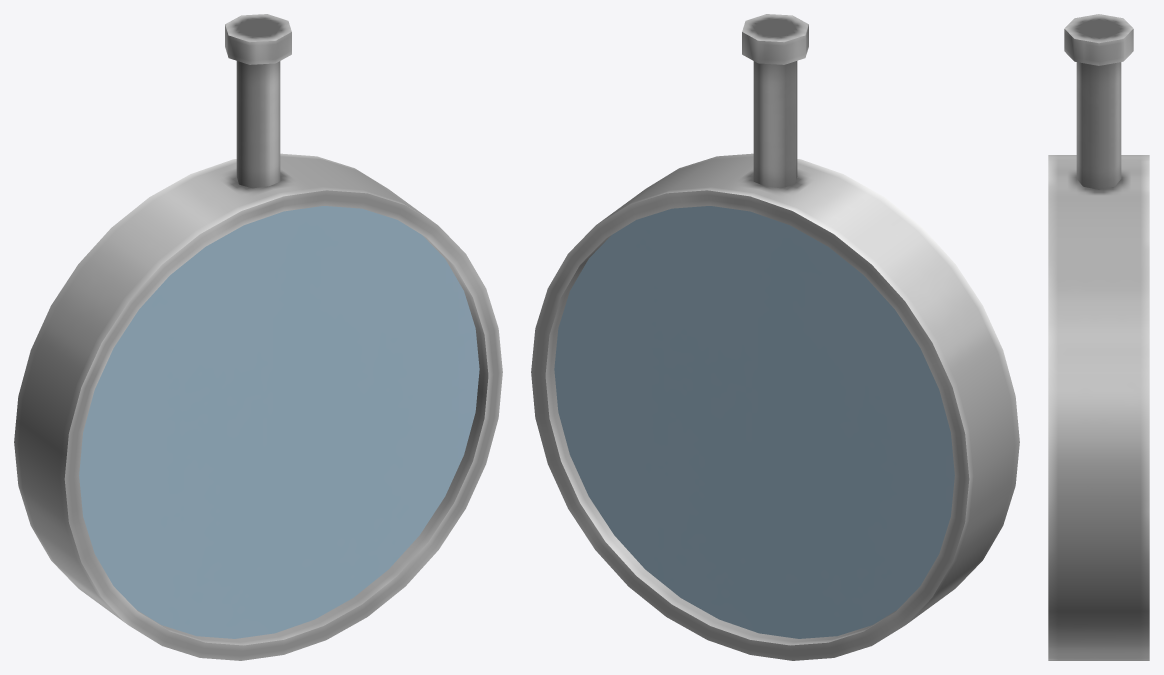
Rendered from set_clock_01_01.fbx.
3 renders of one model, left to right at view 1: azimuth 30°, elevation 25°; view 2: azimuth 150°, elevation 25°; view 3: azimuth 270°, elevation 25°, orthographic.
Parts seen in each view (by area): view 1: glass01, clock_01; view 2: glass02, clock_01; view 3: clock_01.
Boxes of the visible parts, left/top/right/bottom form: glass01: left=79, top=206, right=479, bottom=638; clock_01: left=14, top=14, right=502, bottom=660; glass02: left=554, top=206, right=954, bottom=638; clock_01: left=531, top=14, right=1019, bottom=660; clock_01: left=1048, top=14, right=1149, bottom=660.
Bounding box in the file's own units: 40 × 53.06 × 8.
